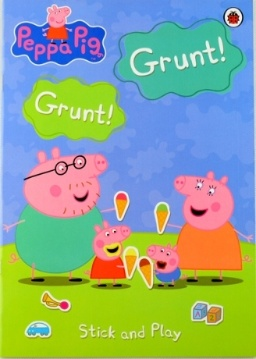Peppa: (87, 220, 132, 290)
